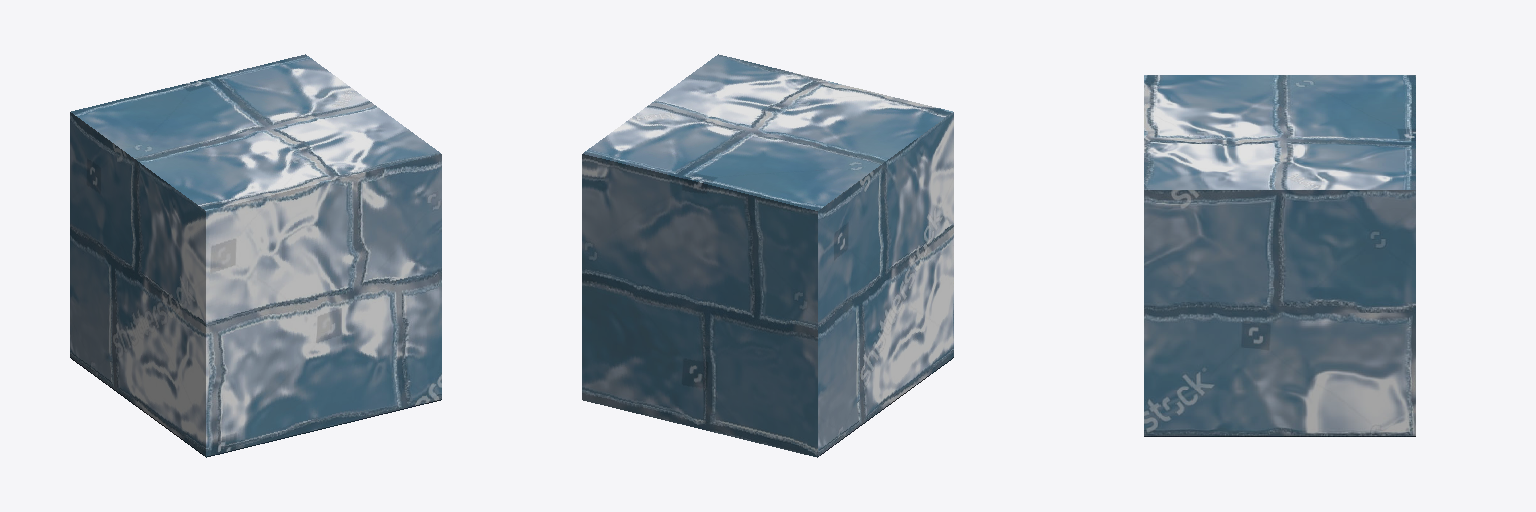
3 views of the same model, side by side, from view 1: azimuth 30°, elevation 25°; view 2: azimuth 150°, elevation 25°; view 3: azimuth 270°, elevation 25° (orthographic).
Parts seen in each view (by area): view 1: cubo:pCube1; view 2: cubo:pCube1; view 3: cubo:pCube1.
Boxes of the visible parts, x1,y1,x2,y2 form: cubo:pCube1: [70, 54, 441, 457]; cubo:pCube1: [582, 54, 953, 457]; cubo:pCube1: [1144, 75, 1415, 436].
Size of the model in its own units: 0.9734 by 0.9734 by 0.9734.
1 materials, 1 textured.